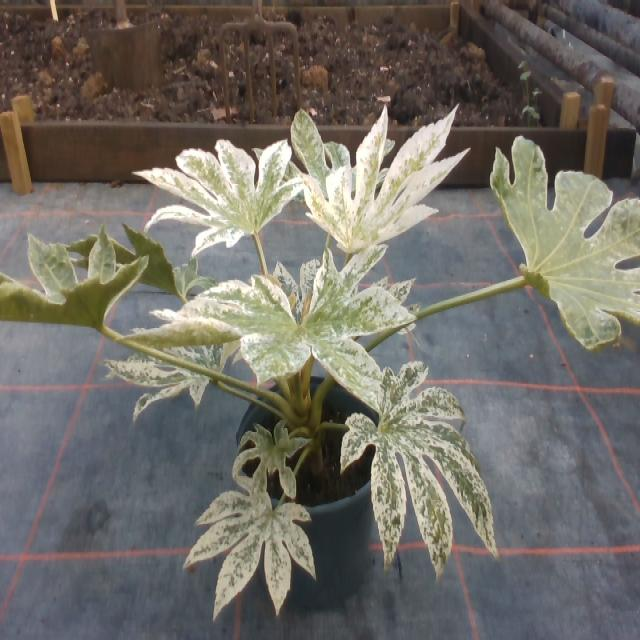Fatsia-japonica: (320, 357, 540, 574), (480, 117, 640, 359), (188, 254, 410, 412), (318, 79, 462, 274), (189, 463, 328, 630), (106, 286, 252, 442), (150, 115, 300, 261), (257, 73, 394, 220), (0, 220, 130, 367), (80, 208, 211, 316), (239, 422, 298, 473)
